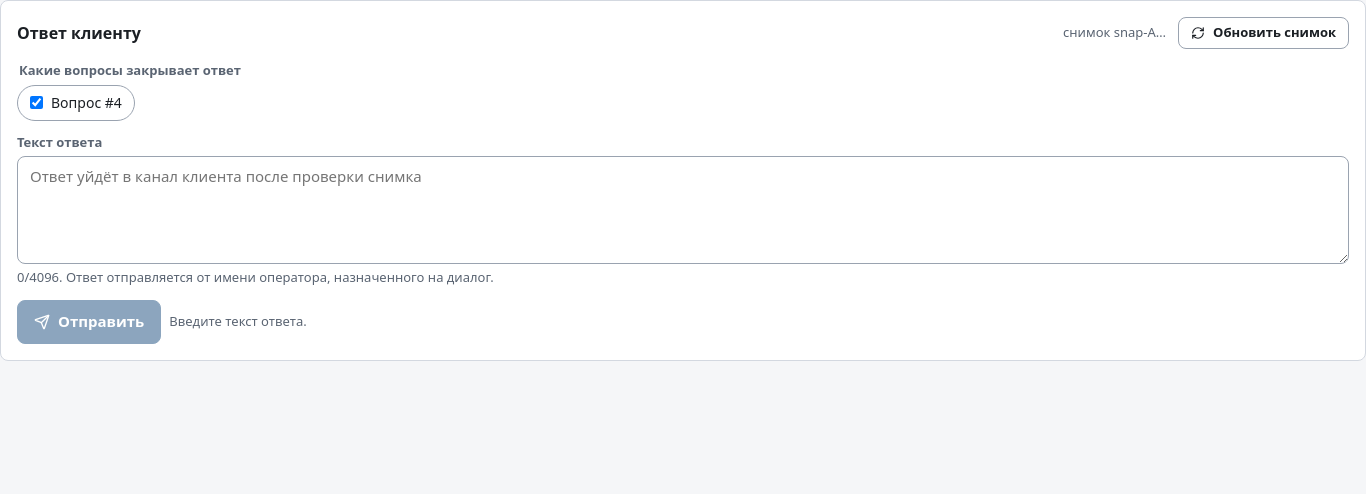
Test: форма ответа › отправляет ответ с идентификатором снимка и версией назначения
Type "Отвечаем по существу" into the text box labelled "Текст ответа". click: (683, 210)
box: [17, 156, 1349, 264]
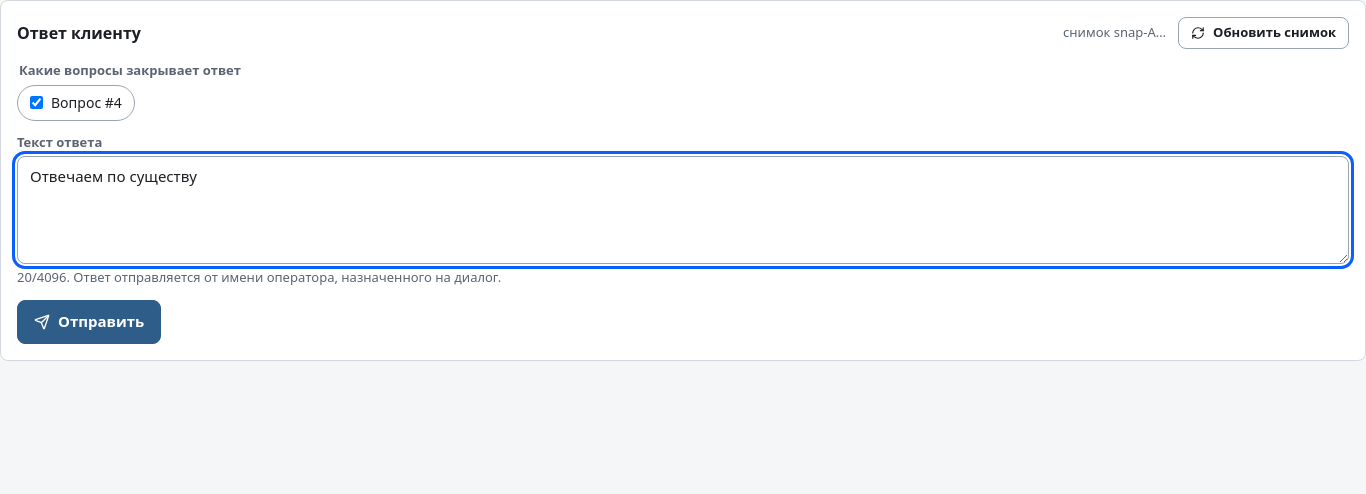
Click the button "Отправить". click: (89, 322)
box: [17, 300, 161, 344]
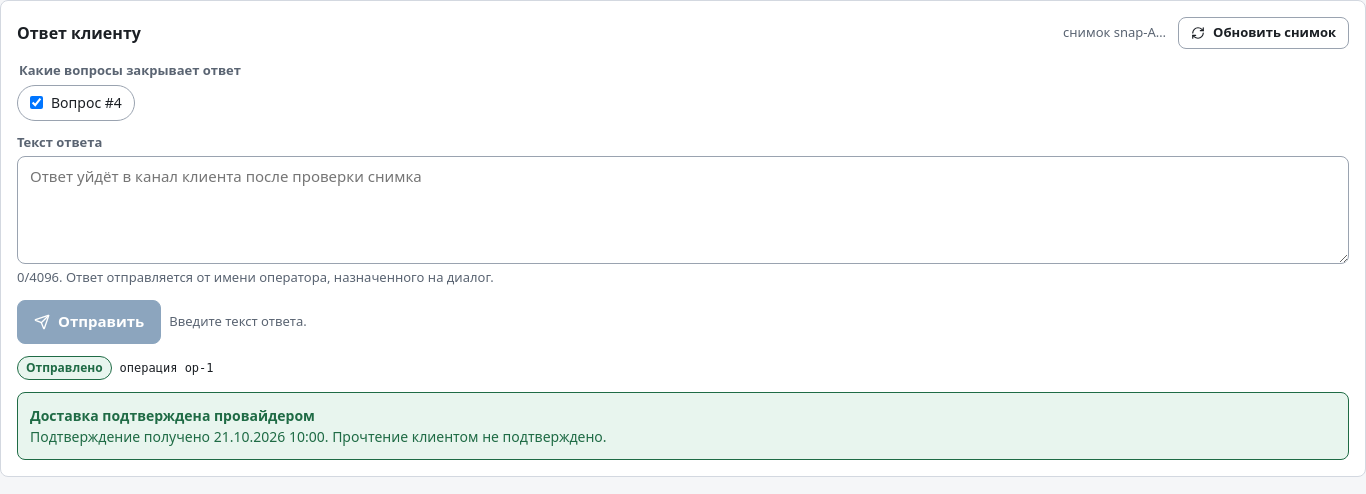
Check: the text "Доставка подтверждена провайдером" is shown, box [30, 406, 315, 424]
